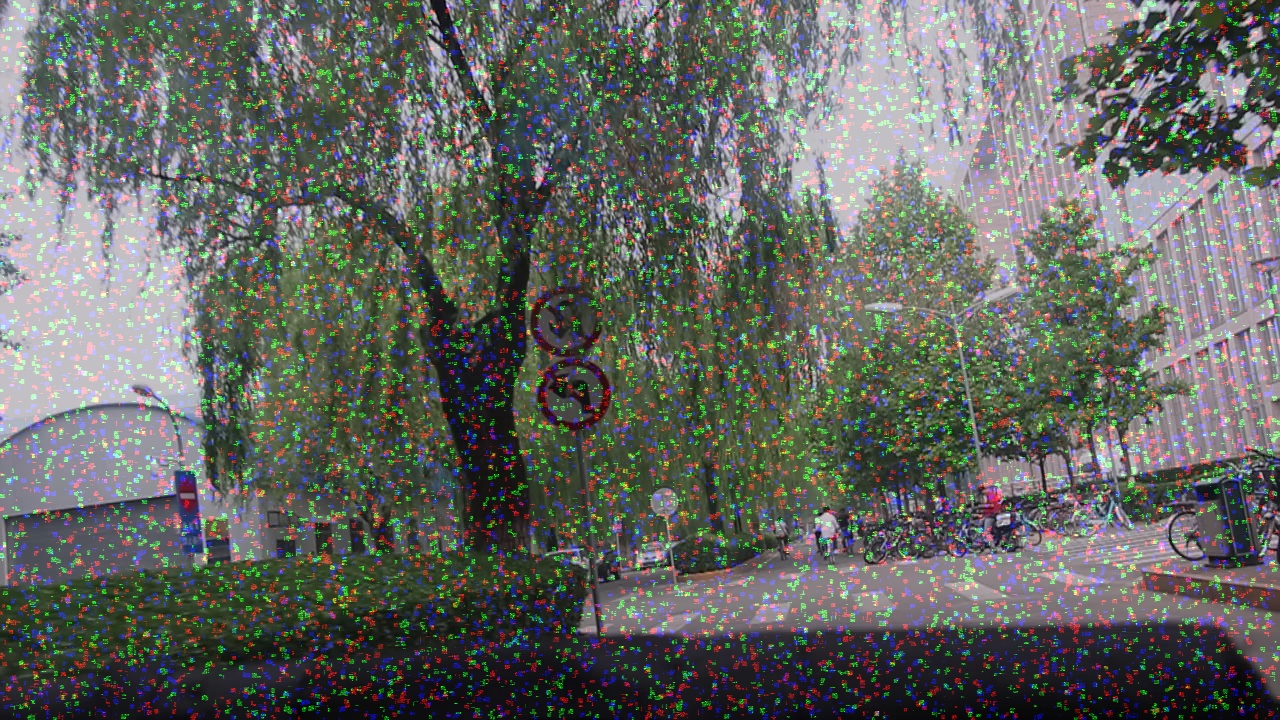Prohibitory Signs: (535, 357, 613, 433), (528, 283, 605, 358), (173, 476, 200, 515)
